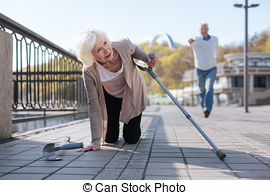collapsed: (10, 6, 187, 177)
